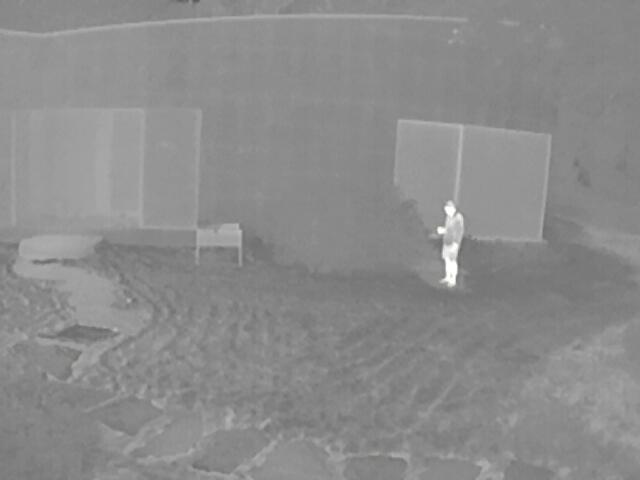person: (438, 200, 464, 289)
